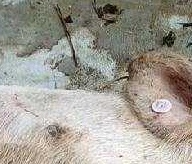text: (142, 88, 184, 124)
